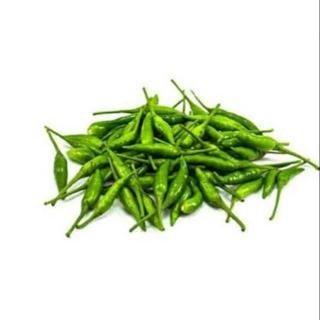Cabai Hijau: (40, 75, 320, 250)
